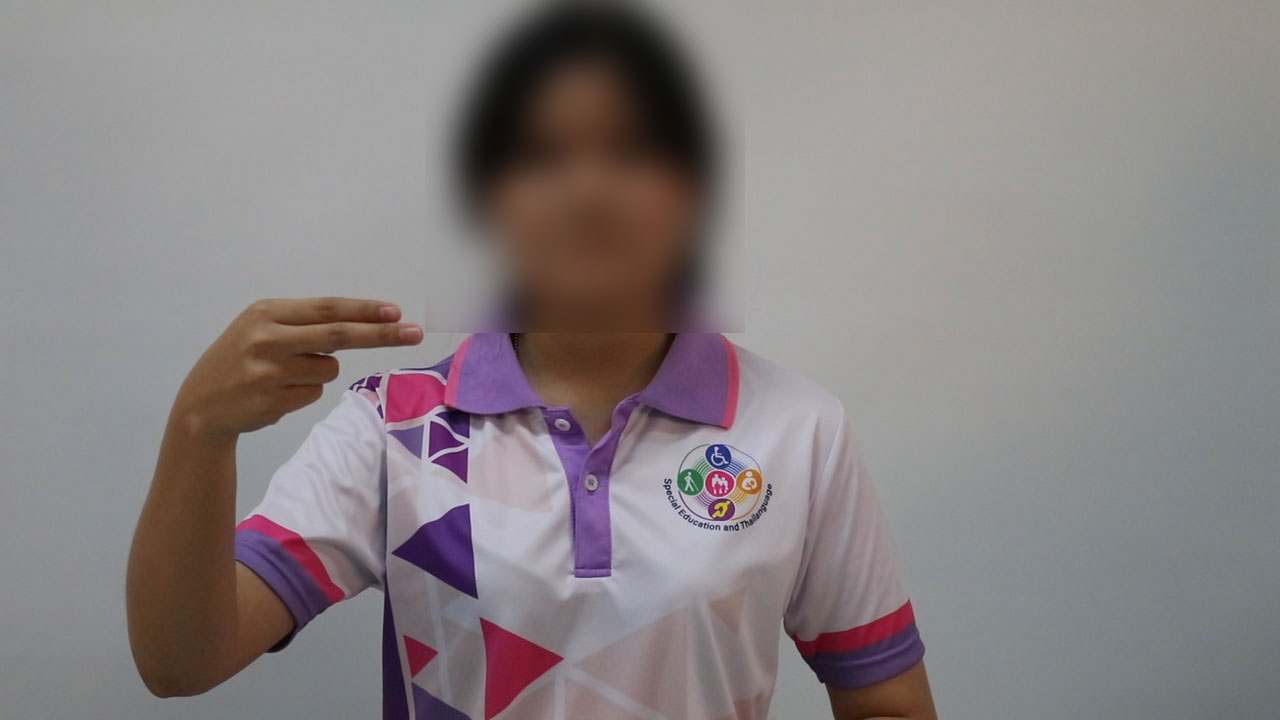hor: (180, 276, 437, 446)
